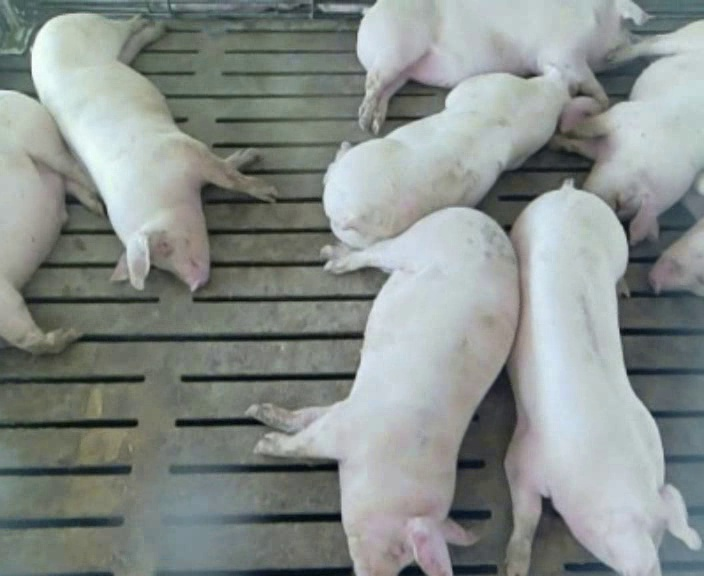pig: (247, 209, 518, 574), (505, 181, 700, 574), (32, 13, 274, 289), (323, 56, 602, 247), (357, 2, 646, 133), (553, 20, 703, 244), (649, 172, 703, 296)
